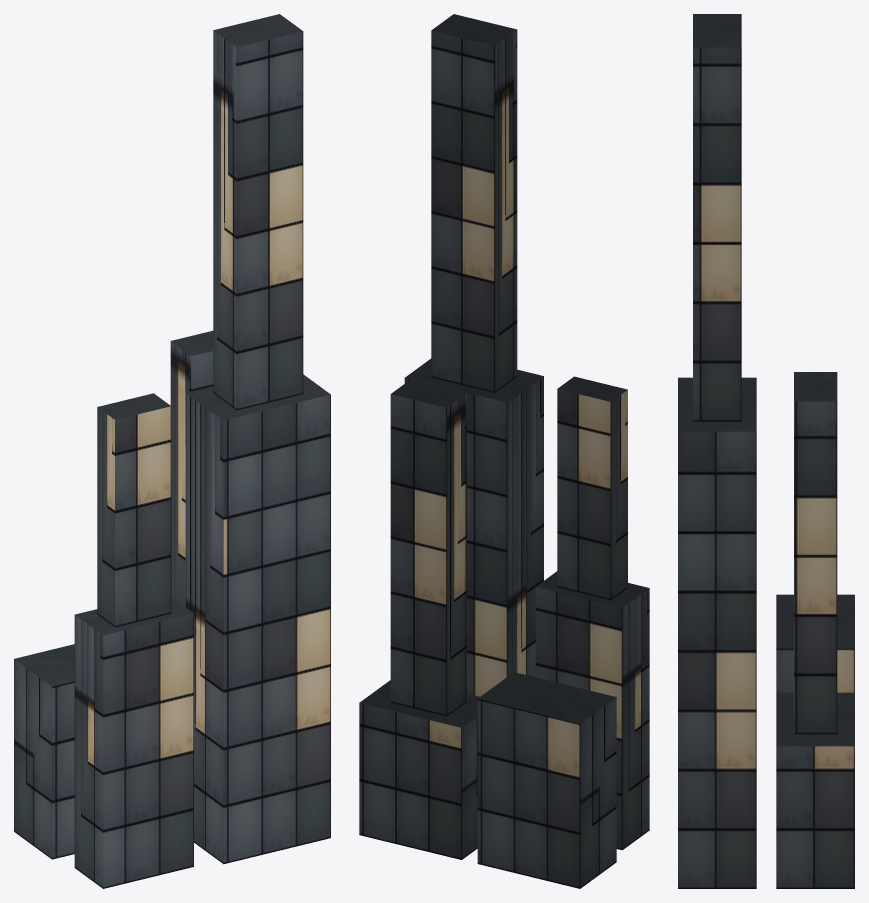
Rendered from city_block_12345_6_33.glb.
3 views of the same model, side by side, from view 1: azimuth 30°, elevation 25°; view 2: azimuth 150°, elevation 25°; view 3: azimuth 270°, elevation 25° (orthographic). The views are drawn at different scales.
Visible parts, largest first — view 1: block_33; view 2: block_33; view 3: block_33.
Part boxes in pixels (box(x1,y1,x2,y2)): block_33: box(14, 14, 330, 888); block_33: box(359, 14, 649, 888); block_33: box(678, 14, 854, 888).
Bounding box in the file's own units: 4.2 × 14 × 2.7.
Materials: 4 (4 with a texture image).
